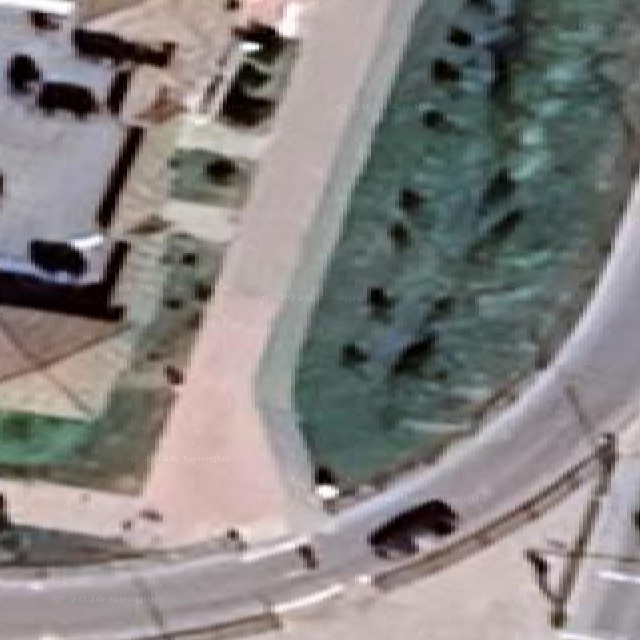car: (368, 500, 457, 555)
